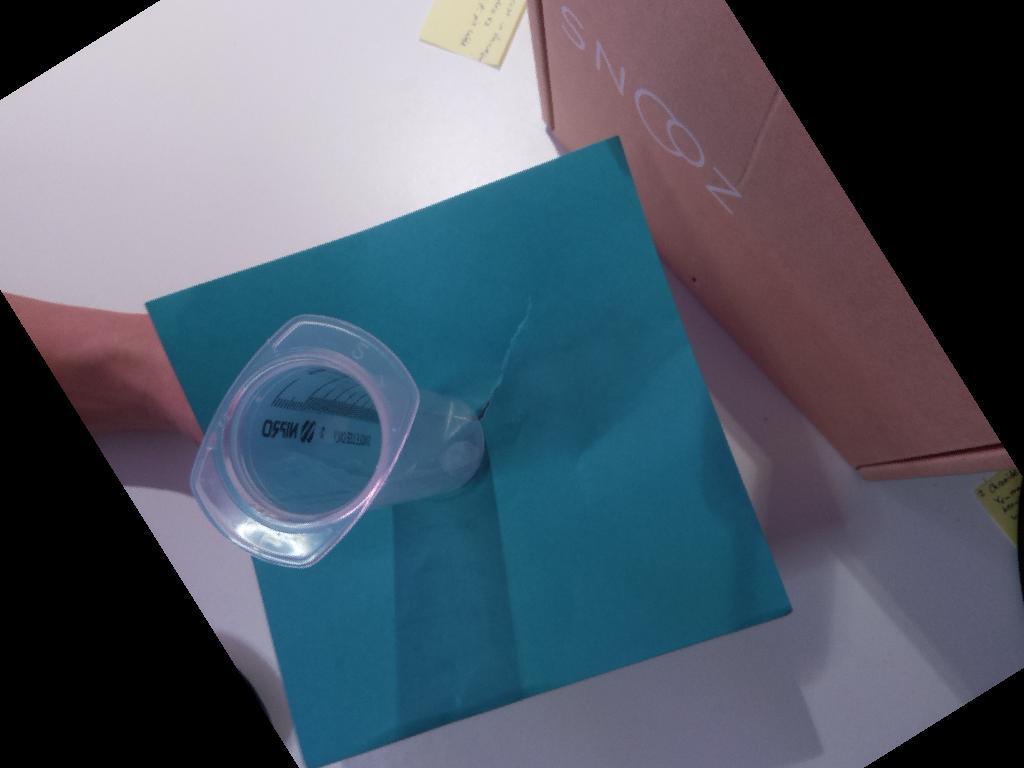clean: (188, 310, 423, 570)
